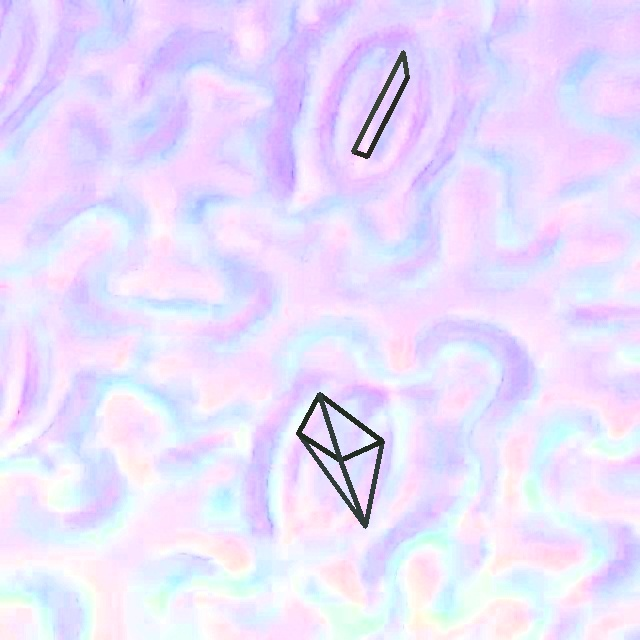close: (296, 393, 384, 528), (351, 50, 409, 158)
